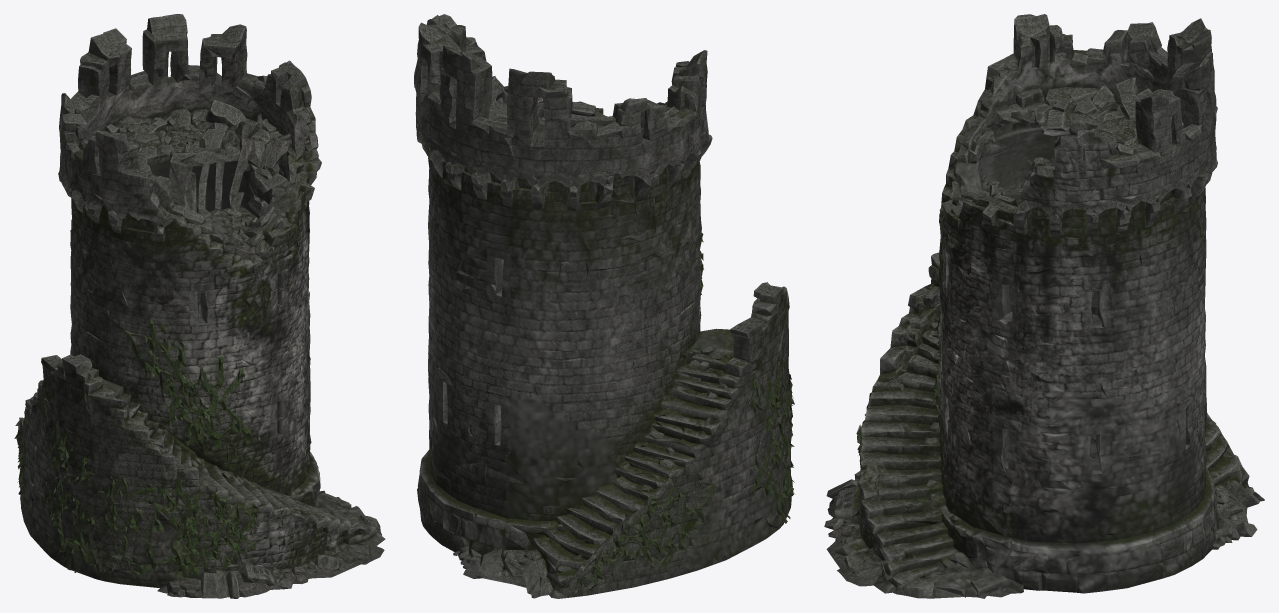
File: corner_tower.glb
3 renders of one model, left to right at view 1: azimuth 30°, elevation 25°; view 2: azimuth 150°, elevation 25°; view 3: azimuth 270°, elevation 25°, orthographic. The views are drawn at different scales.
Parts seen in each view (by area): view 1: Mesh_0; view 2: Mesh_0; view 3: Mesh_0.
Boxes of the visible parts, left/top/right/bottom form: Mesh_0: left=14, top=14, right=385, bottom=598; Mesh_0: left=414, top=14, right=794, bottom=598; Mesh_0: left=824, top=14, right=1264, bottom=598.
Size of the model in its own units: 1.29 by 1.9 by 1.54.
Materials: 1 (1 with a texture image).
